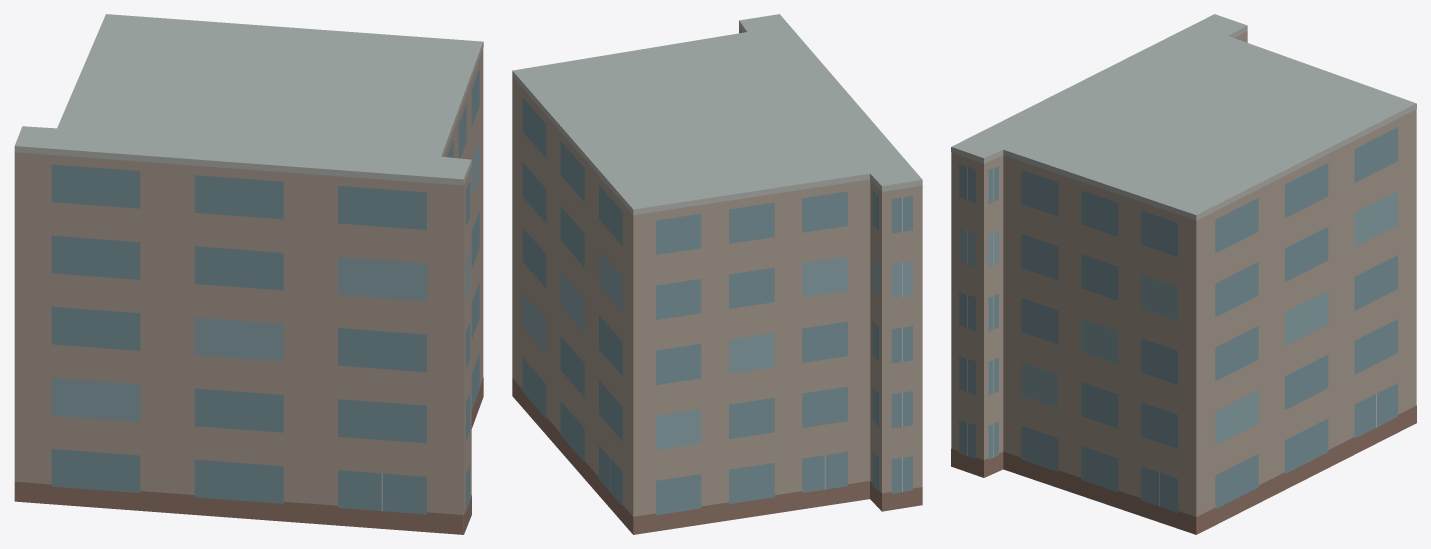
File: survey-upis-32691826.glb
3 views of the same model, side by side, from view 1: azimuth 30°, elevation 25°; view 2: azimuth 150°, elevation 25°; view 3: azimuth 270°, elevation 25° (orthographic). The views are drawn at different scales.
Parts seen in each view (by area): view 1: survey-upis-32691826.tmp; view 2: survey-upis-32691826.tmp; view 3: survey-upis-32691826.tmp.
Boxes of the visible parts, x1,y1,x2,y2 form: survey-upis-32691826.tmp: (14,14,483,534); survey-upis-32691826.tmp: (512,14,922,534); survey-upis-32691826.tmp: (951,14,1416,534).
Size of the model in its own units: 18.84 by 13.95 by 18.42.
